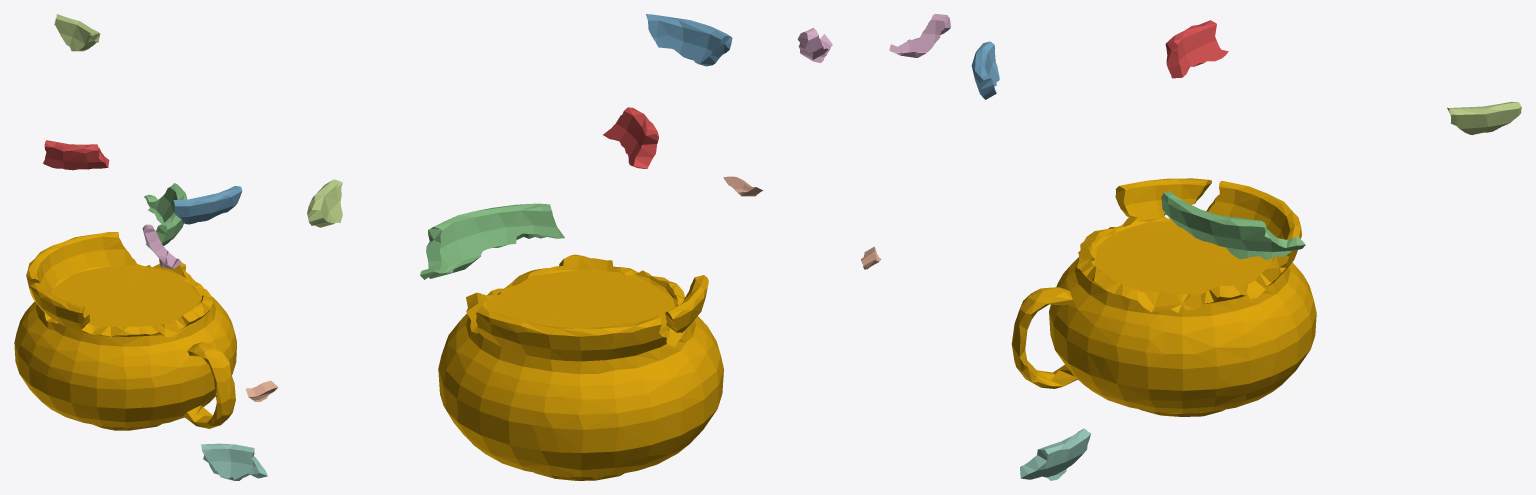
Rendered from fractured_35_8pcs_transformed.glb.
The picture shows the model from 3 angles, left to right: view 1: azimuth 30°, elevation 25°; view 2: azimuth 150°, elevation 25°; view 3: azimuth 270°, elevation 25°; orthographic projection. The views are drawn at different scales.
Parts seen in each view (by area): view 1: piece_0.obj, piece_4.obj, piece_1.obj, piece_2.obj, piece_3.obj, piece_5.obj, piece_6.obj, piece_7.obj; view 2: piece_0.obj, piece_3.obj, piece_2.obj, piece_1.obj, piece_5.obj, piece_6.obj; view 3: piece_0.obj, piece_3.obj, piece_1.obj, piece_4.obj, piece_5.obj, piece_6.obj, piece_2.obj.
Boxes of the visible parts, x1,y1,x2,y2 form: piece_0.obj: (14, 232, 236, 430); piece_4.obj: (201, 443, 267, 480); piece_1.obj: (43, 140, 109, 170); piece_2.obj: (173, 186, 242, 224); piece_3.obj: (144, 183, 187, 250); piece_5.obj: (54, 14, 100, 51); piece_6.obj: (142, 224, 181, 269); piece_7.obj: (246, 380, 278, 401); piece_0.obj: (438, 254, 723, 480); piece_3.obj: (420, 203, 564, 279); piece_2.obj: (646, 14, 732, 66); piece_1.obj: (603, 107, 658, 168); piece_5.obj: (307, 179, 342, 227); piece_6.obj: (797, 28, 832, 62); piece_0.obj: (1011, 178, 1316, 416); piece_3.obj: (1161, 191, 1305, 259); piece_1.obj: (1165, 20, 1228, 78); piece_4.obj: (1020, 428, 1091, 480); piece_5.obj: (1447, 101, 1521, 134); piece_6.obj: (889, 14, 950, 57); piece_2.obj: (971, 41, 999, 99).
Bounding box in the file's own units: 0.878 × 1.4 × 2.17.
